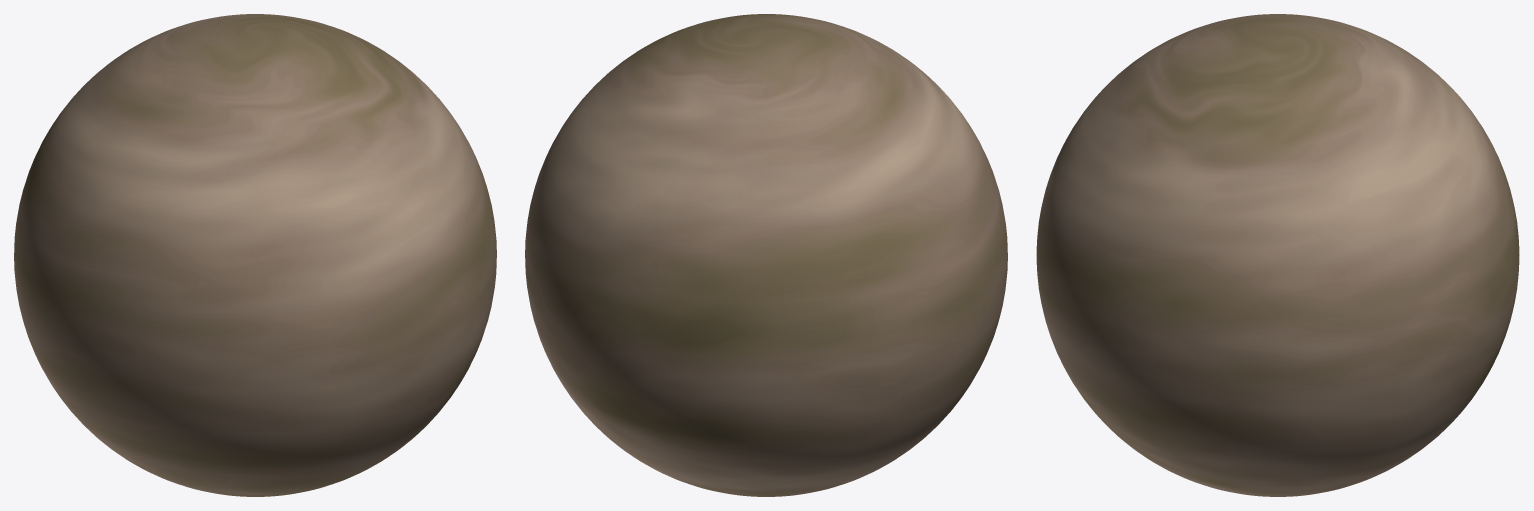
Rendered from gliese_581c.glb.
The picture shows the model from 3 angles, left to right: view 1: azimuth 30°, elevation 25°; view 2: azimuth 150°, elevation 25°; view 3: azimuth 270°, elevation 25°; orthographic projection.
Visible parts, largest first — view 1: Atmosfera; view 2: Atmosfera; view 3: Atmosfera.
Part boxes in pixels (left/top/right/bottom): Atmosfera: left=14, top=14, right=496, bottom=496; Atmosfera: left=525, top=14, right=1007, bottom=496; Atmosfera: left=1036, top=14, right=1519, bottom=496.
Bounding box in the file's own units: 2020 × 2020 × 2020.
2 materials, 2 textured.
